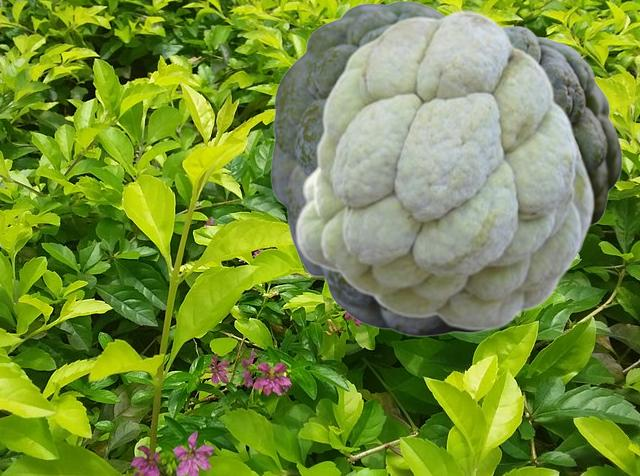atis: (270, 0, 621, 335), (294, 9, 594, 330)
